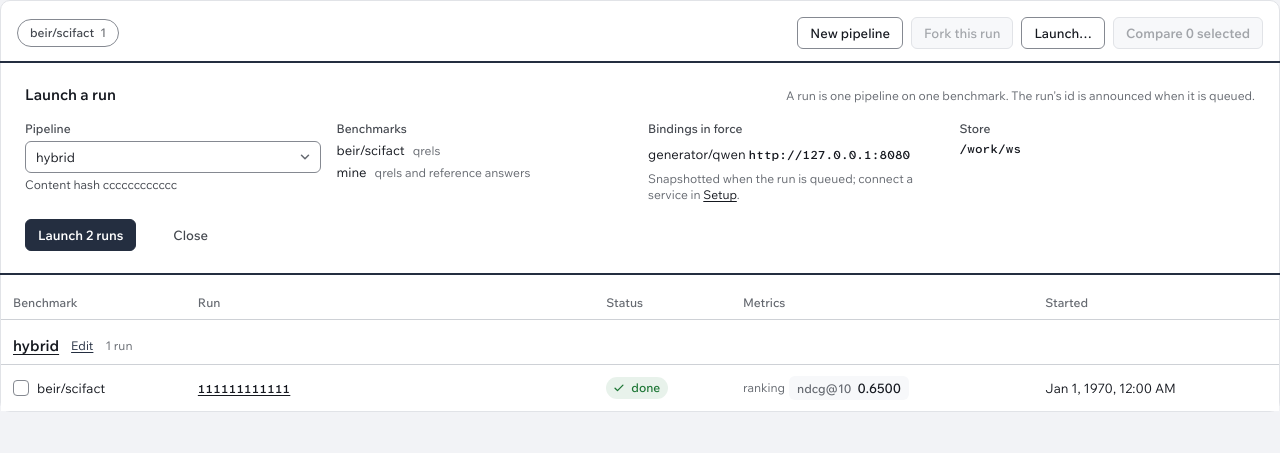
Test case: the launch panel on several benchmarks › sends the rest when the first is refused
The width and height of the screenshot is (1280, 453).
Click the button "Launch 2 runs": (81, 235) [25,219,136,251]
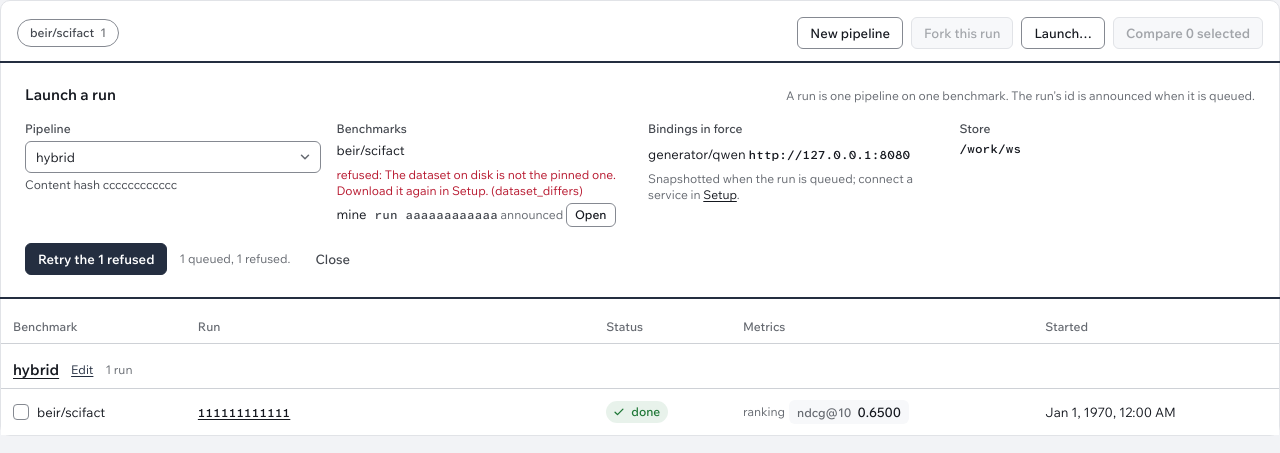
Expected: the text "1 queued, 1 refused." is shown, [180,251,290,267]
